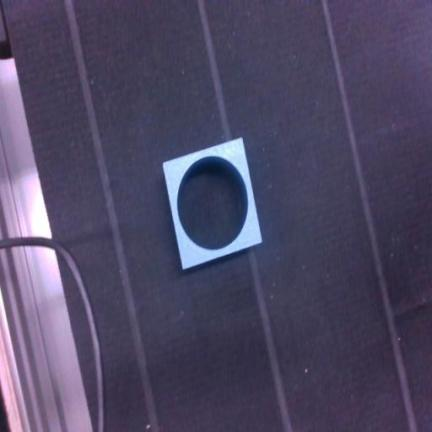hole: (163, 139, 261, 269)
